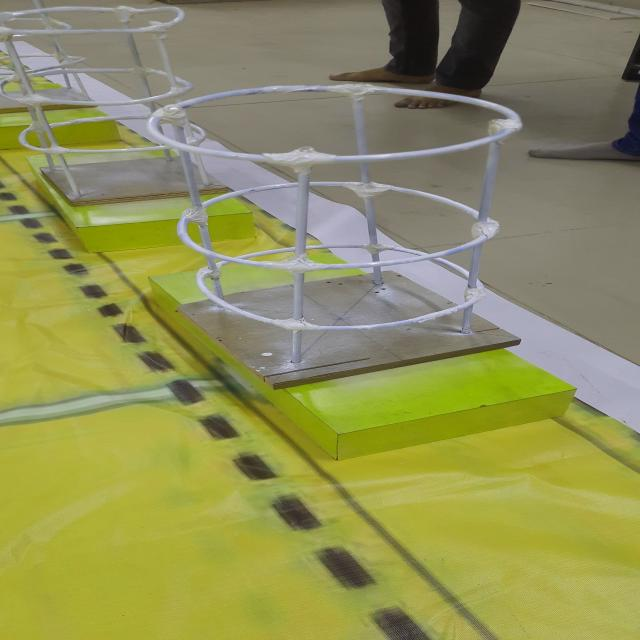silo: (147, 82, 526, 378), (0, 9, 231, 201)
